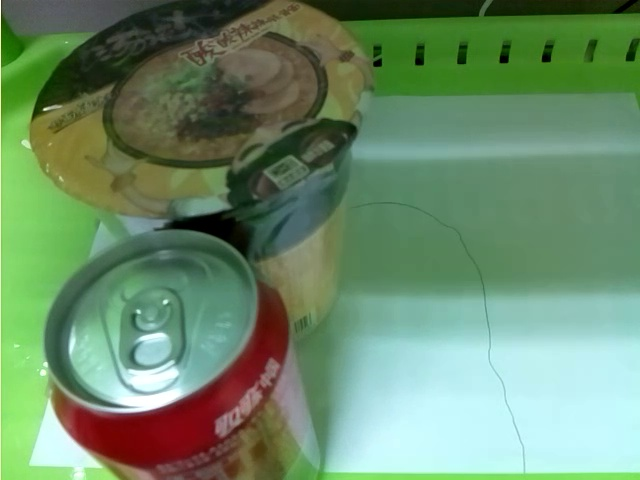cocacola: (40, 233, 323, 480)
noodles: (31, 2, 373, 332)
